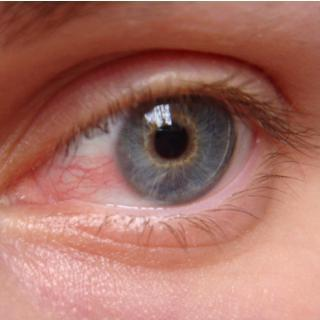pupil: (153, 122, 190, 159)
